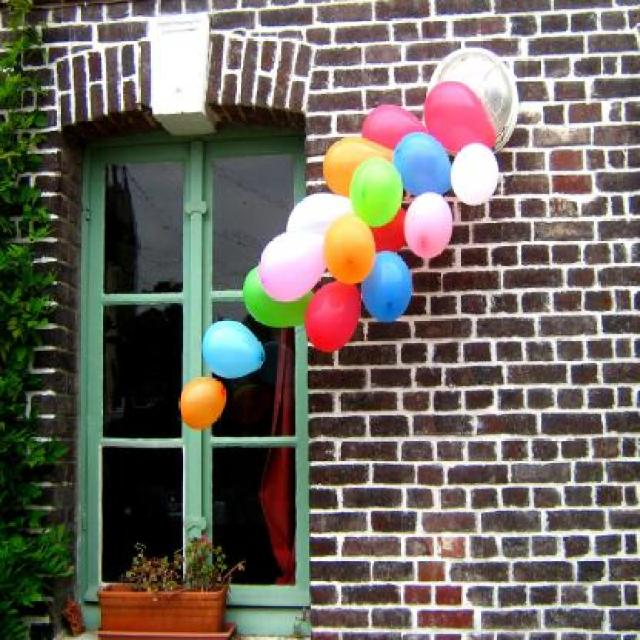balloon: (418, 49, 531, 149), (312, 128, 411, 195), (253, 228, 342, 300), (241, 260, 326, 327), (422, 83, 501, 155), (299, 276, 364, 354), (358, 244, 417, 325), (321, 212, 382, 286), (448, 138, 502, 211), (402, 192, 461, 258), (344, 153, 398, 225), (202, 317, 264, 379), (280, 186, 358, 234), (389, 136, 451, 196), (173, 377, 230, 431), (356, 105, 425, 146)
